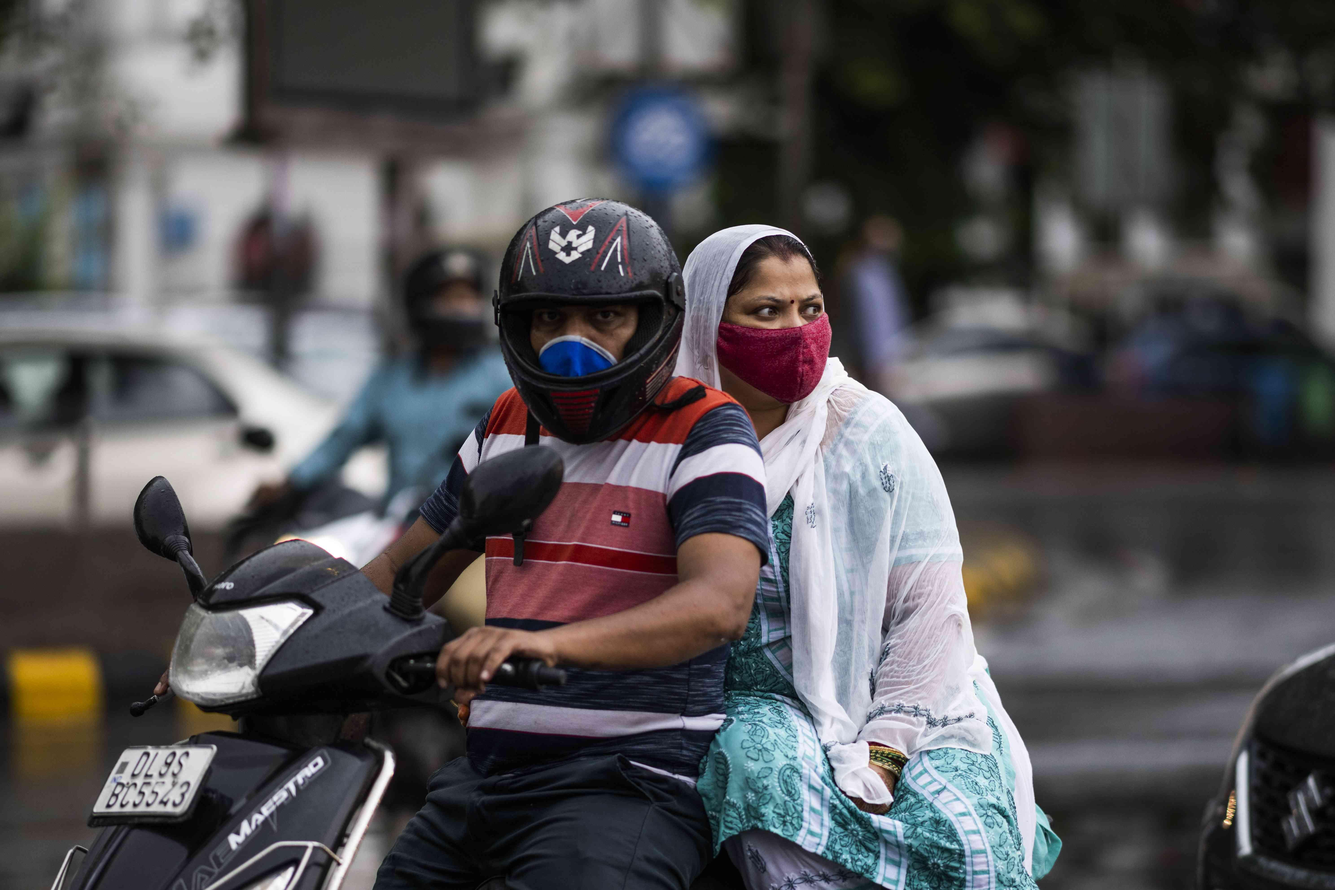helmet: (461, 183, 698, 431)
nohelmet: (670, 187, 857, 426)
